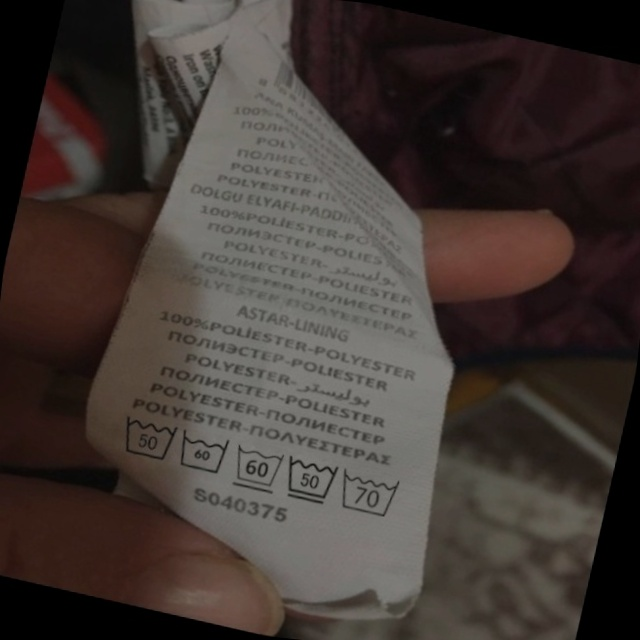50C: (110, 403, 186, 471), (276, 448, 346, 513)
60C: (226, 436, 292, 499), (171, 423, 238, 484)
70C: (333, 463, 410, 525)
